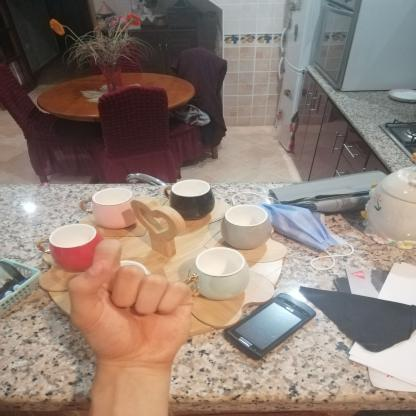FAA: (54, 228, 206, 378)
